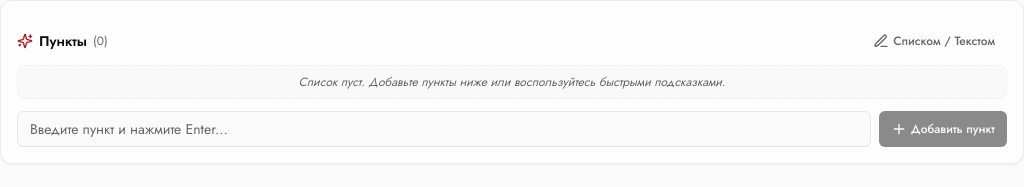
Scenario: ItemsArrayInput Component › adds item via input field and 'Добавить' button, updating hidden input
Expected: the button "Добавить пункт" is disabled, [879,111,1007,147]
In the field with placeholder "Введите пункт и нажмите Enter...": [444, 129] box [17,111,871,147], type "Ски-пасс"
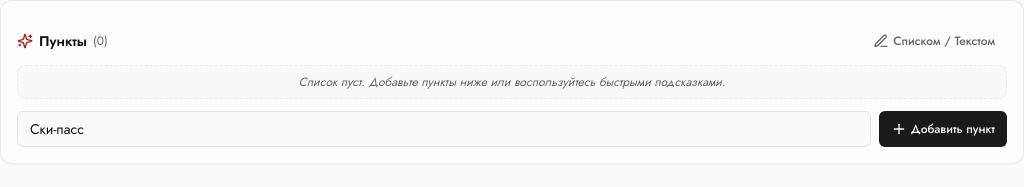
Expected: the button "Добавить пункт" is enabled
Click the button "Добавить пункт": [943, 129] box [879,111,1007,147]
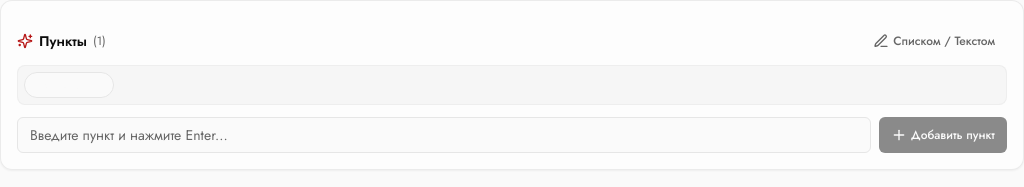
Expected: the field with placeholder "Введите пункт и нажмите Enter..." is empty, [17,117,871,153]
